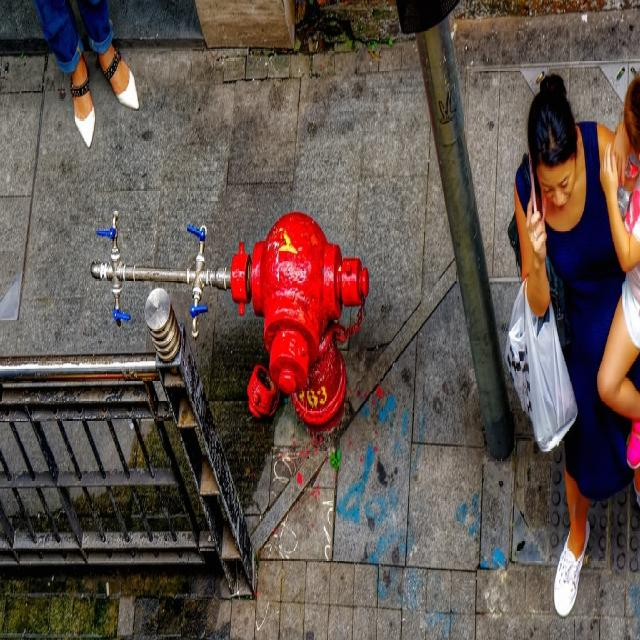fire_hydrant: (213, 178, 400, 480)
